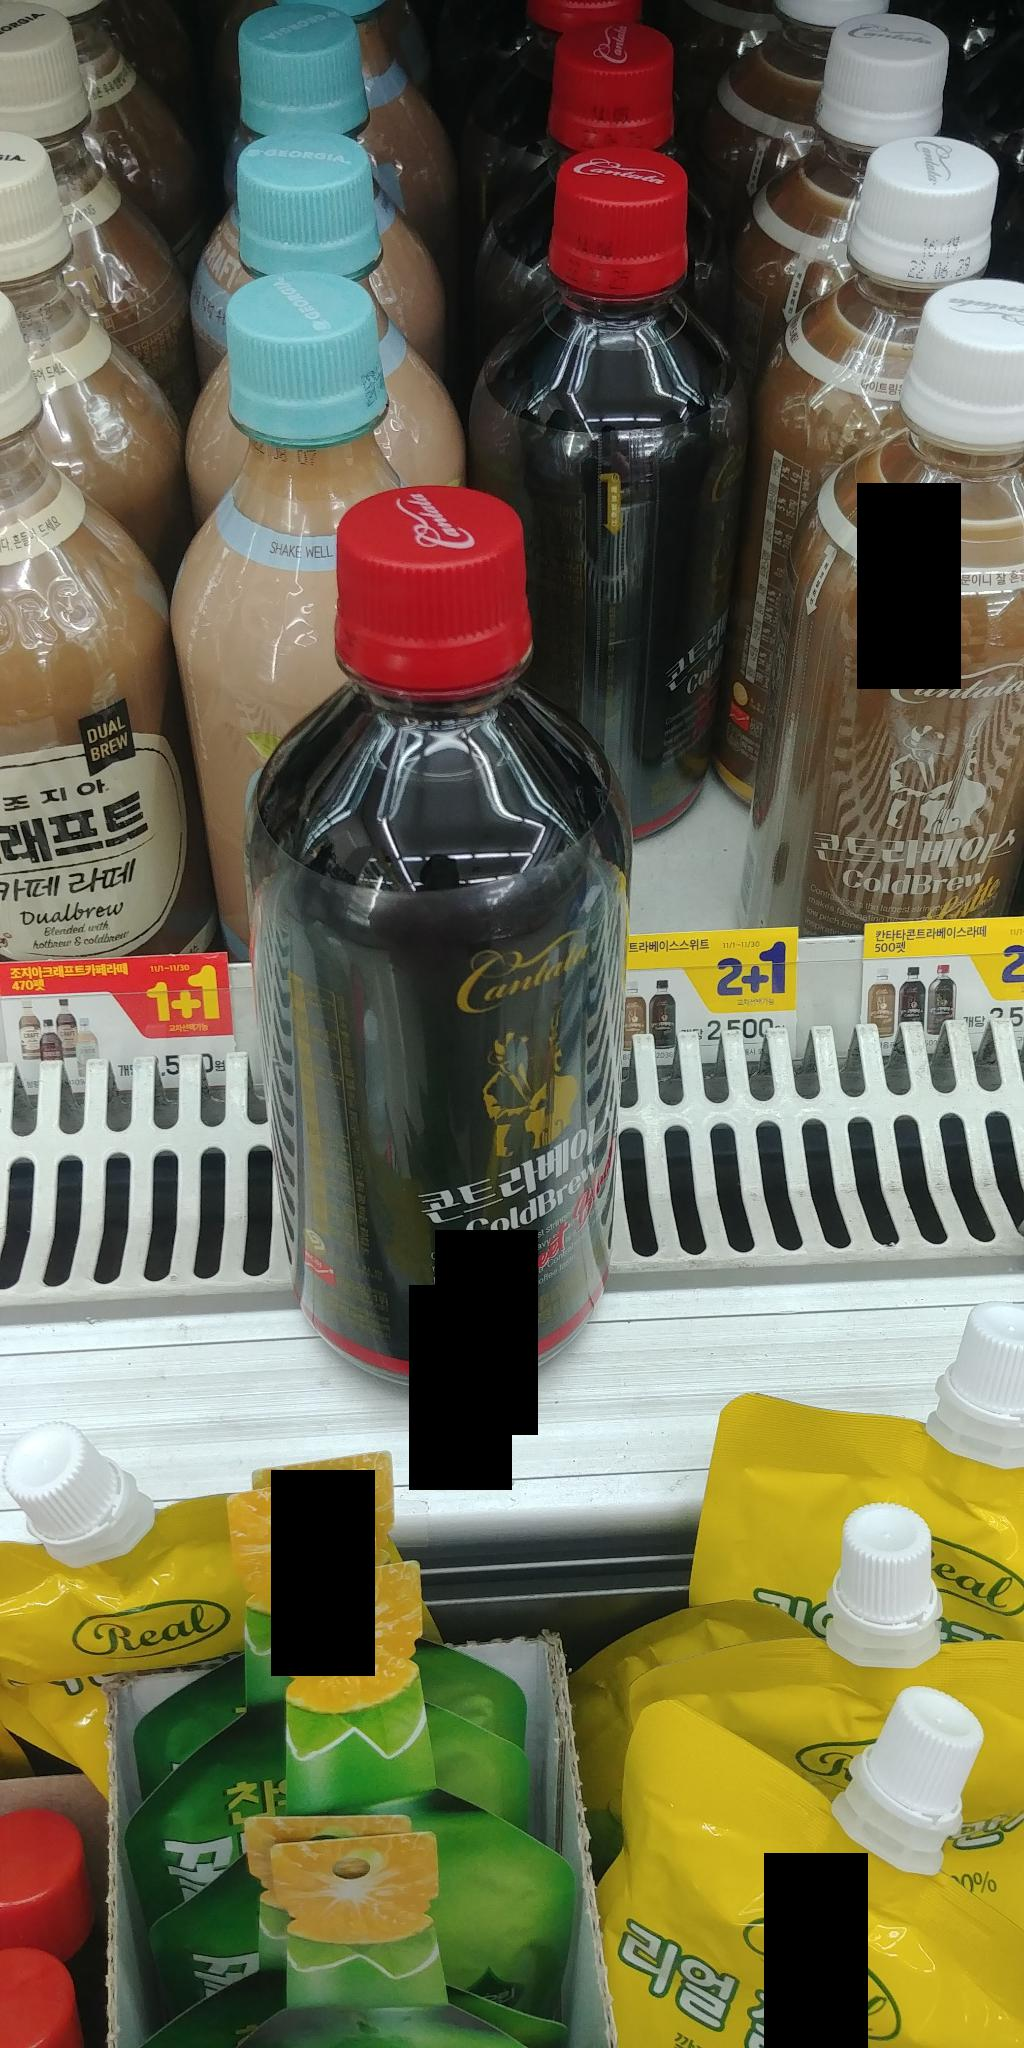contrabass_sweetblack: (222, 468, 637, 1407)
